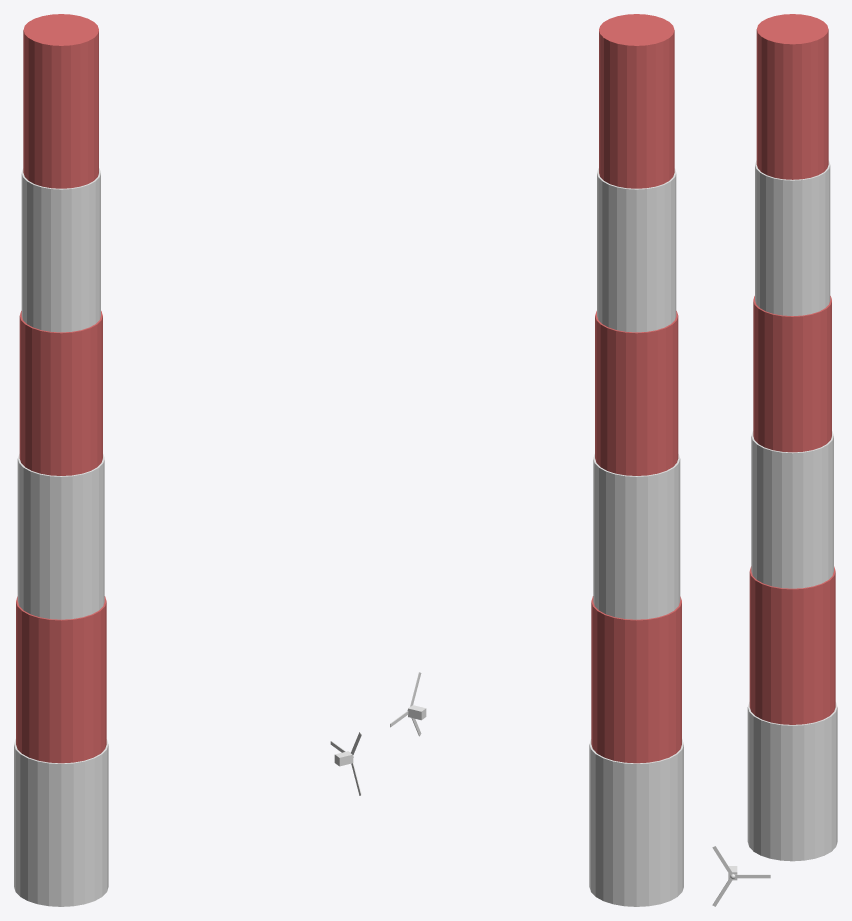
Rendered from seabreeze_models.glb.
The picture shows the model from 3 angles, left to right: view 1: azimuth 30°, elevation 25°; view 2: azimuth 150°, elevation 25°; view 3: azimuth 270°, elevation 25°; orthographic projection. The views are drawn at different scales.
Visible parts, largest first — view 1: Turbine_Tower_0, Turbine_Tower_1, Turbine_Tower_5, Turbine_Tower_2, Turbine_Tower_3, Turbine_Tower_4; view 2: Turbine_Tower_0, Turbine_Tower_1, Turbine_Tower_5, Turbine_Tower_2, Turbine_Tower_3, Turbine_Tower_4; view 3: Turbine_Tower_0, Turbine_Tower_1, Turbine_Tower_5, Turbine_Tower_2, Turbine_Tower_3, Turbine_Tower_4.
Boxes of the visible parts, x1=… form: Turbine_Tower_0: x1=14, y1=739, x2=108, y2=906; Turbine_Tower_1: x1=16, y1=596, x2=106, y2=763; Turbine_Tower_5: x1=23, y1=14, x2=98, y2=188; Turbine_Tower_2: x1=17, y1=454, x2=104, y2=619; Turbine_Tower_3: x1=19, y1=311, x2=102, y2=475; Turbine_Tower_4: x1=21, y1=168, x2=100, y2=332; Turbine_Tower_0: x1=589, y1=739, x2=683, y2=906; Turbine_Tower_1: x1=591, y1=596, x2=681, y2=763; Turbine_Tower_5: x1=599, y1=14, x2=674, y2=188; Turbine_Tower_2: x1=593, y1=454, x2=680, y2=619; Turbine_Tower_3: x1=595, y1=311, x2=678, y2=475; Turbine_Tower_4: x1=597, y1=168, x2=676, y2=332; Turbine_Tower_0: x1=747, y1=702, x2=837, y2=861; Turbine_Tower_1: x1=749, y1=566, x2=835, y2=724; Turbine_Tower_5: x1=756, y1=14, x2=828, y2=179; Turbine_Tower_2: x1=751, y1=431, x2=833, y2=588; Turbine_Tower_3: x1=753, y1=296, x2=831, y2=452; Turbine_Tower_4: x1=755, y1=160, x2=830, y2=315.
Size of the model in its own units: 11040 by 30001 by 4182.
